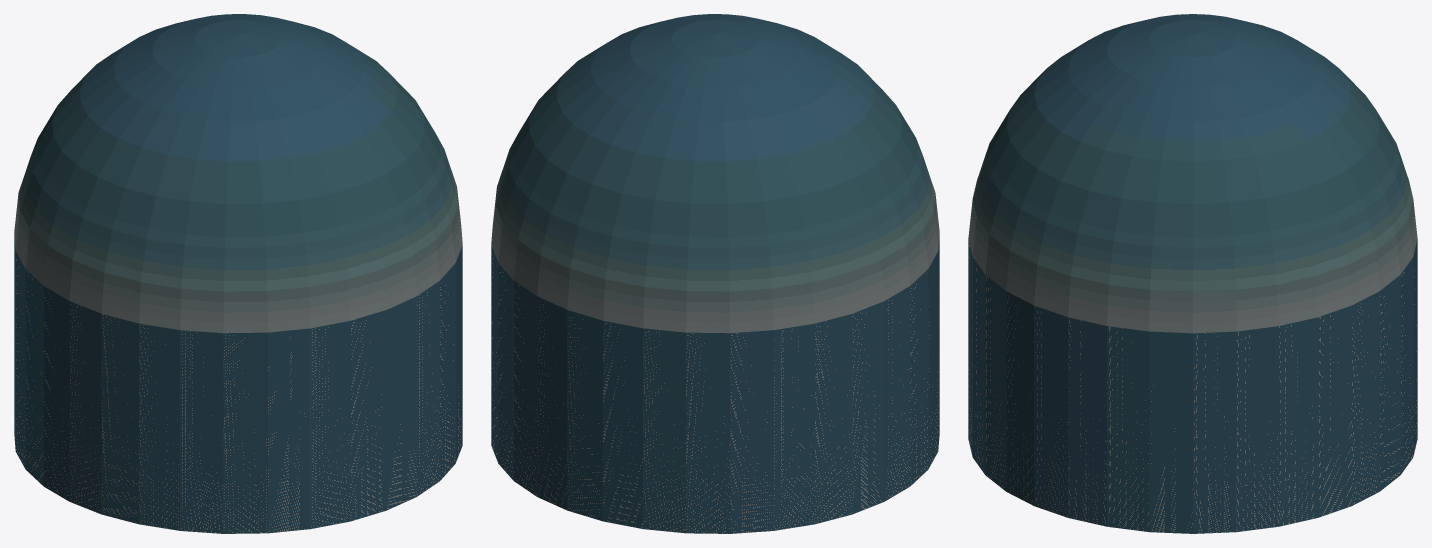
Rendered from ShipTierUpDlg.fbx.
3 renders of one model, left to right at view 1: azimuth 30°, elevation 25°; view 2: azimuth 150°, elevation 25°; view 3: azimuth 270°, elevation 25°, orthographic.
Parts seen in each view (by area): view 1: Sky; view 2: Sky; view 3: Sky.
Part boxes in pixels (box(x1,y1,x2,y2)): Sky: box(14, 14, 462, 533); Sky: box(491, 14, 939, 533); Sky: box(968, 14, 1417, 533).
Size of the model in its own units: 10299 by 10224 by 10298.
1 material, 1 textured.
